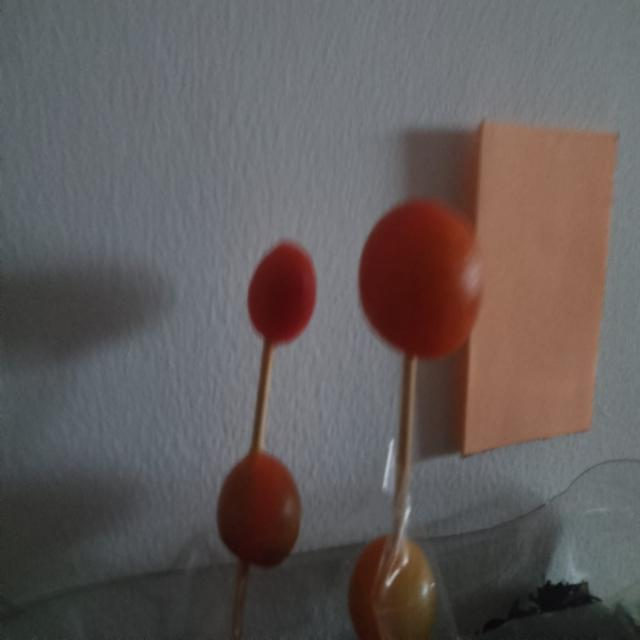card: (459, 121, 616, 454)
fruit_maturation: (348, 536, 437, 639)
fully_grown: (359, 201, 482, 358), (217, 452, 301, 567), (248, 241, 315, 344)
